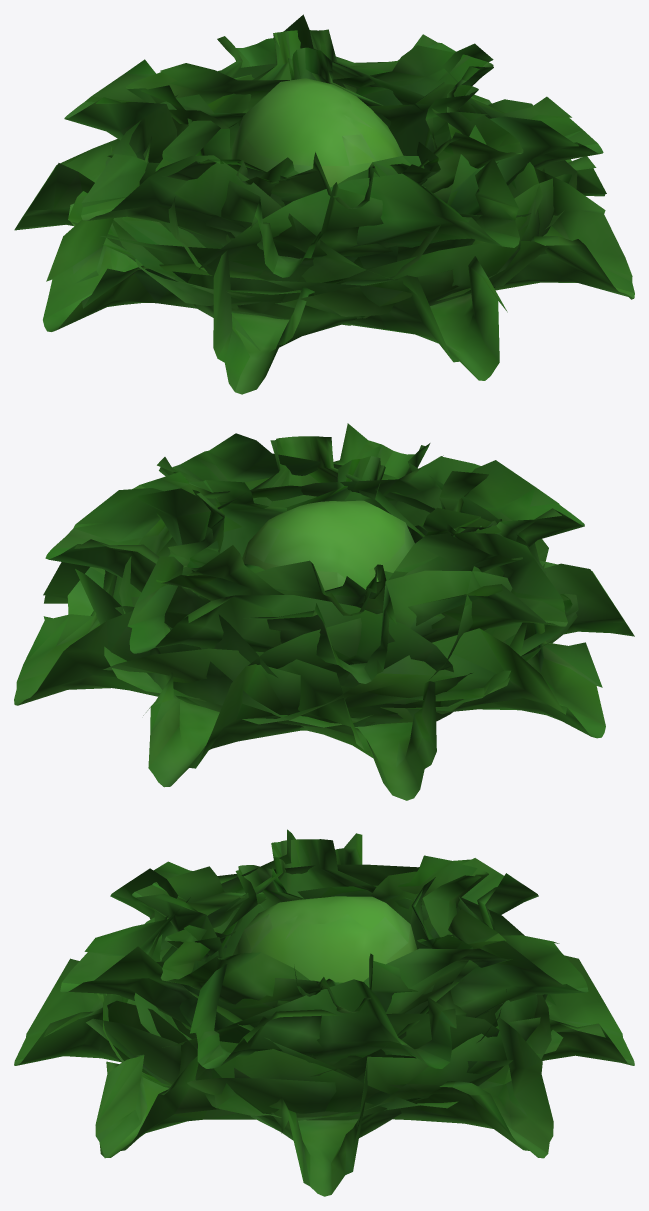
File: crop_spinach.glb
3 renders of one model, top to bottom at view 1: azimuth 30°, elevation 25°; view 2: azimuth 150°, elevation 25°; view 3: azimuth 270°, elevation 25°, orthographic. The views are drawn at different scales.
Visible parts, largest first — view 1: crop_spinach, fruit; view 2: crop_spinach, fruit; view 3: crop_spinach, fruit.
Part boxes in pixels (x1,y1,x2,y2): crop_spinach: [14, 14, 634, 394]; fruit: [231, 78, 403, 187]; crop_spinach: [14, 423, 634, 800]; fruit: [242, 500, 414, 590]; crop_spinach: [14, 829, 634, 1196]; fruit: [232, 896, 417, 982].
Size of the model in its own units: 0.2435 by 0.0936 by 0.2435.
1 material, 1 textured.
